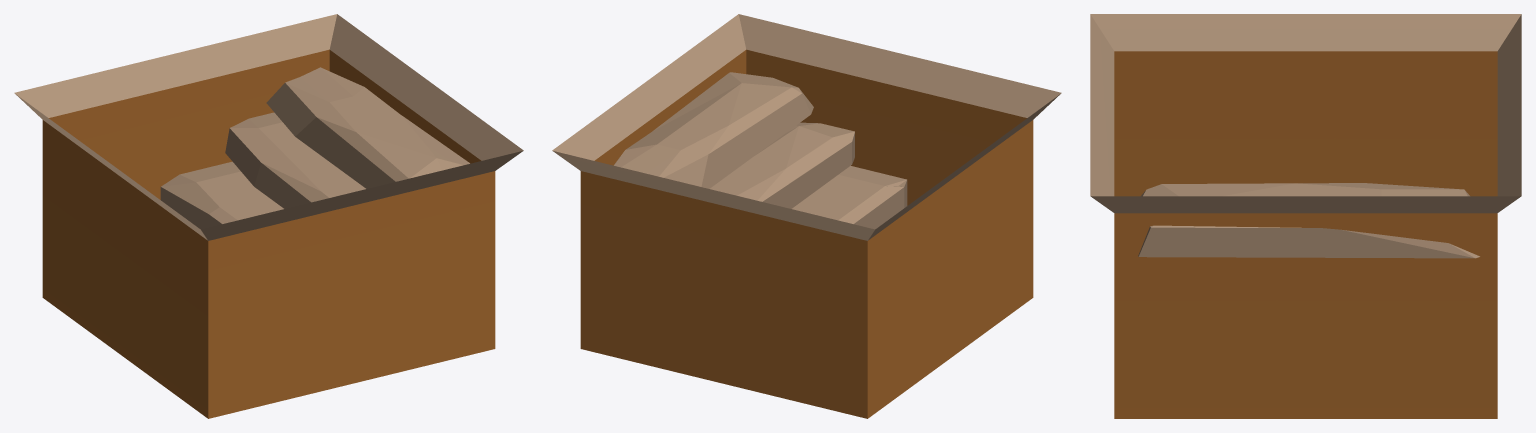
Rendered from Stairs_down_B.fbx.
3 views of the same model, side by side, from view 1: azimuth 30°, elevation 25°; view 2: azimuth 150°, elevation 25°; view 3: azimuth 270°, elevation 25° (orthographic). The views are drawn at different scales.
Visible parts, largest first — view 1: Stairs_down_B; view 2: Stairs_down_B; view 3: Stairs_down_B.
Part boxes in pixels (x1=…): Stairs_down_B: x1=14, y1=14, x2=523, y2=418; Stairs_down_B: x1=552, y1=14, x2=1061, y2=418; Stairs_down_B: x1=1090, y1=14, x2=1521, y2=418.
Bounding box in the file's own units: 100 × 59.57 × 100.
